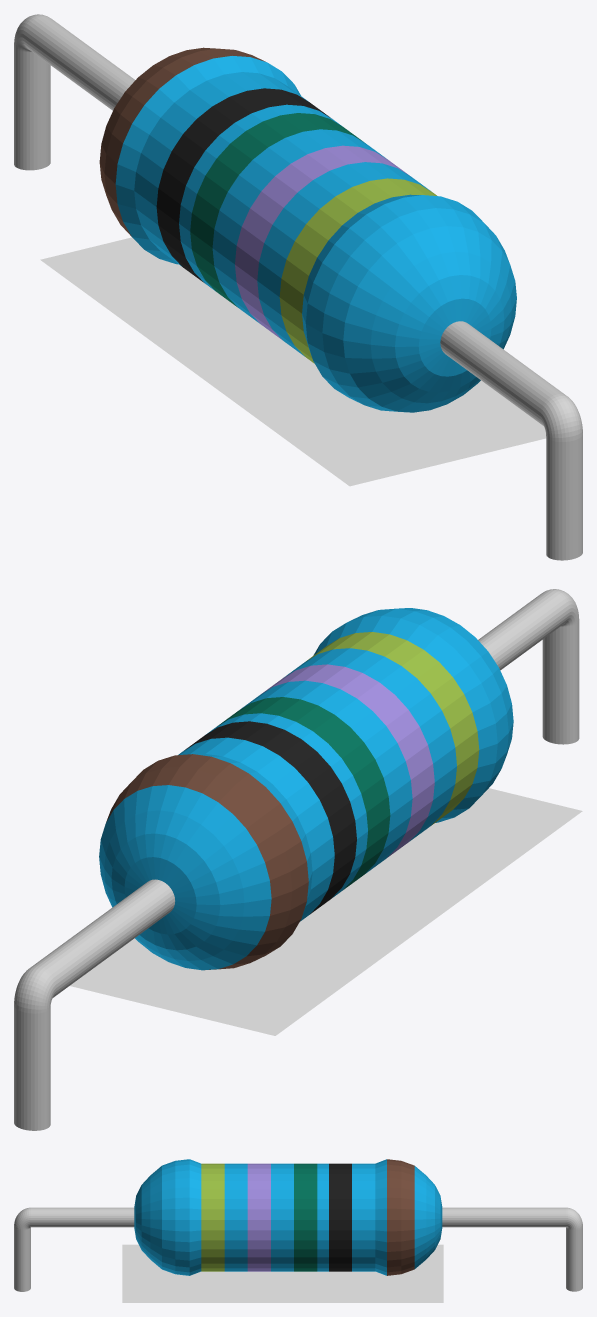
3 renders of one model, top to bottom at view 1: azimuth 30°, elevation 25°; view 2: azimuth 150°, elevation 25°; view 3: azimuth 270°, elevation 25°, orthographic. The views are drawn at different scales.
Visible parts, largest first — view 1: R_4, R_4_plane; view 2: R_4, R_4_plane; view 3: R_4, R_4_plane.
Boxes of the visible parts, x1=… form: R_4: x1=14, y1=14, x2=582, y2=560; R_4_plane: x1=40, y1=237, x2=546, y2=486; R_4: x1=14, y1=589, x2=579, y2=1130; R_4_plane: x1=70, y1=788, x2=582, y2=1035; R_4: x1=14, y1=1159, x2=582, y2=1291; R_4_plane: x1=122, y1=1244, x2=443, y2=1302.
Size of the model in its own units: 0.0161 by 0.0159 by 0.0664.
